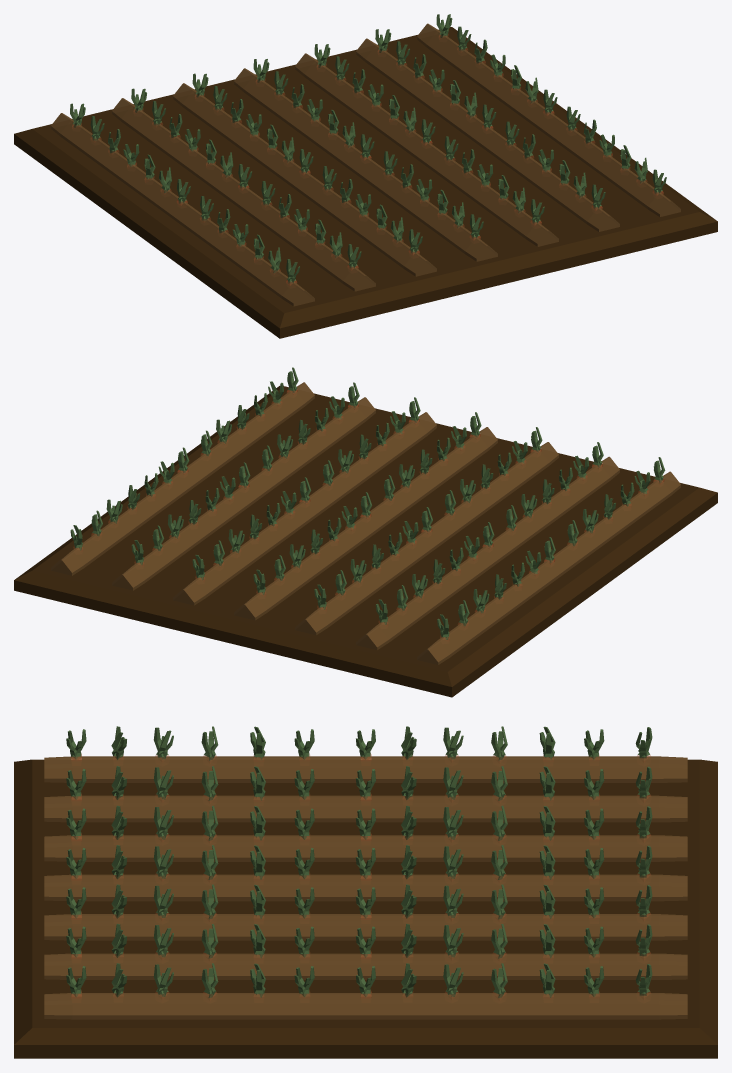
File: FarmCarrot.fbx
The picture shows the model from 3 angles, top to bottom: view 1: azimuth 30°, elevation 25°; view 2: azimuth 150°, elevation 25°; view 3: azimuth 270°, elevation 25°; orthographic projection. The views are drawn at different scales.
Parts seen in each view (by area): view 1: FarmCarrot; view 2: FarmCarrot; view 3: FarmCarrot.
Boxes of the visible parts, bbox=[...] form: FarmCarrot: bbox=[14, 14, 717, 338]; FarmCarrot: bbox=[14, 367, 717, 697]; FarmCarrot: bbox=[14, 726, 717, 1058].
Size of the model in its own units: 605 by 68.42 by 636.
